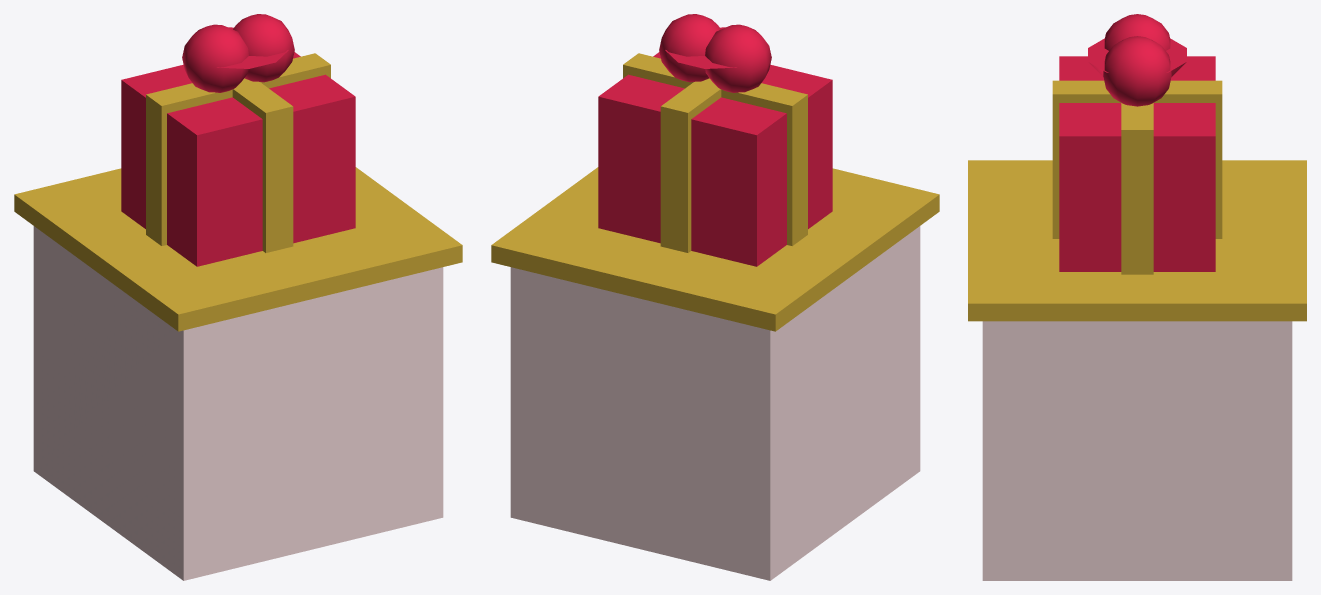
The model's file is gift-heart-box.glb.
3 views of the same model, side by side, from view 1: azimuth 30°, elevation 25°; view 2: azimuth 150°, elevation 25°; view 3: azimuth 270°, elevation 25° (orthographic). The views are drawn at different scales.
Parts seen in each view (by area): view 1: RootAsset; view 2: RootAsset; view 3: RootAsset.
Part boxes in pixels (box(x1,y1,x2,y2)): RootAsset: box(14, 14, 462, 580); RootAsset: box(491, 14, 939, 580); RootAsset: box(968, 14, 1306, 580).
Size of the model in its own units: 1.04 by 1.65 by 1.04.
